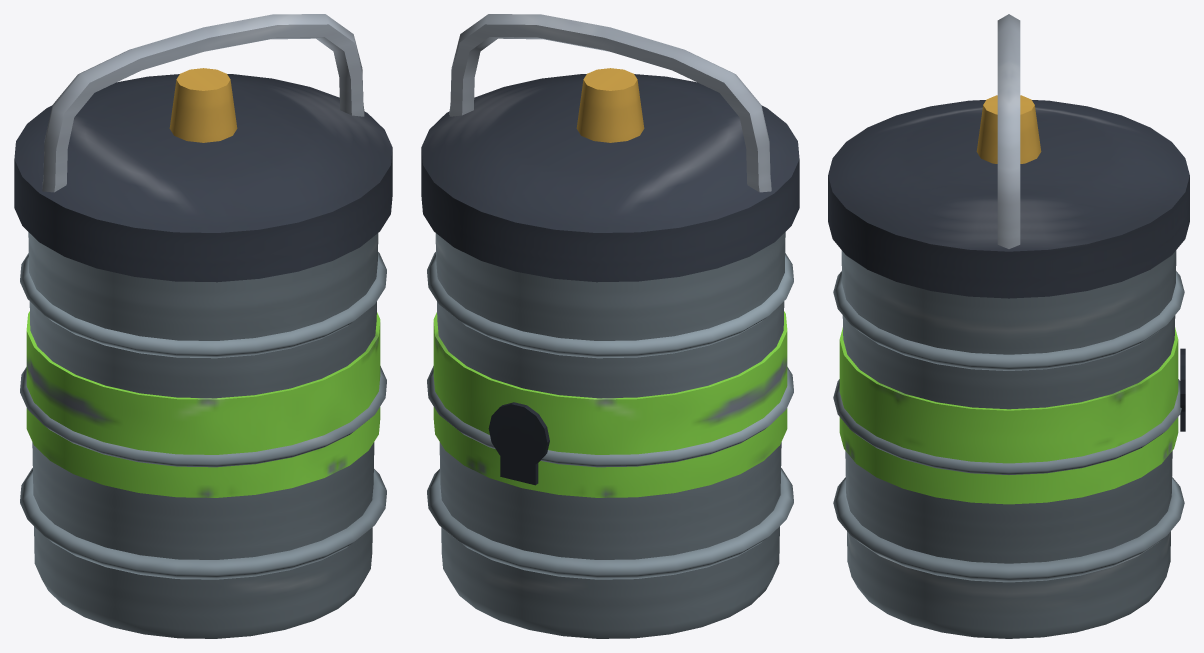
File: GasGrenade.fbx
3 renders of one model, left to right at view 1: azimuth 30°, elevation 25°; view 2: azimuth 150°, elevation 25°; view 3: azimuth 270°, elevation 25°, orthographic. The views are drawn at different scales.
Visible parts, largest first — view 1: GasGrenade; view 2: GasGrenade; view 3: GasGrenade.
Part boxes in pixels (left/top/right/bottom): GasGrenade: left=14, top=14, right=392, bottom=638; GasGrenade: left=421, top=14, right=799, bottom=638; GasGrenade: left=828, top=14, right=1189, bottom=638.
Bounding box in the file's own units: 0.28 × 0.4425 × 0.28.
Materials: 6 (6 with a texture image).
